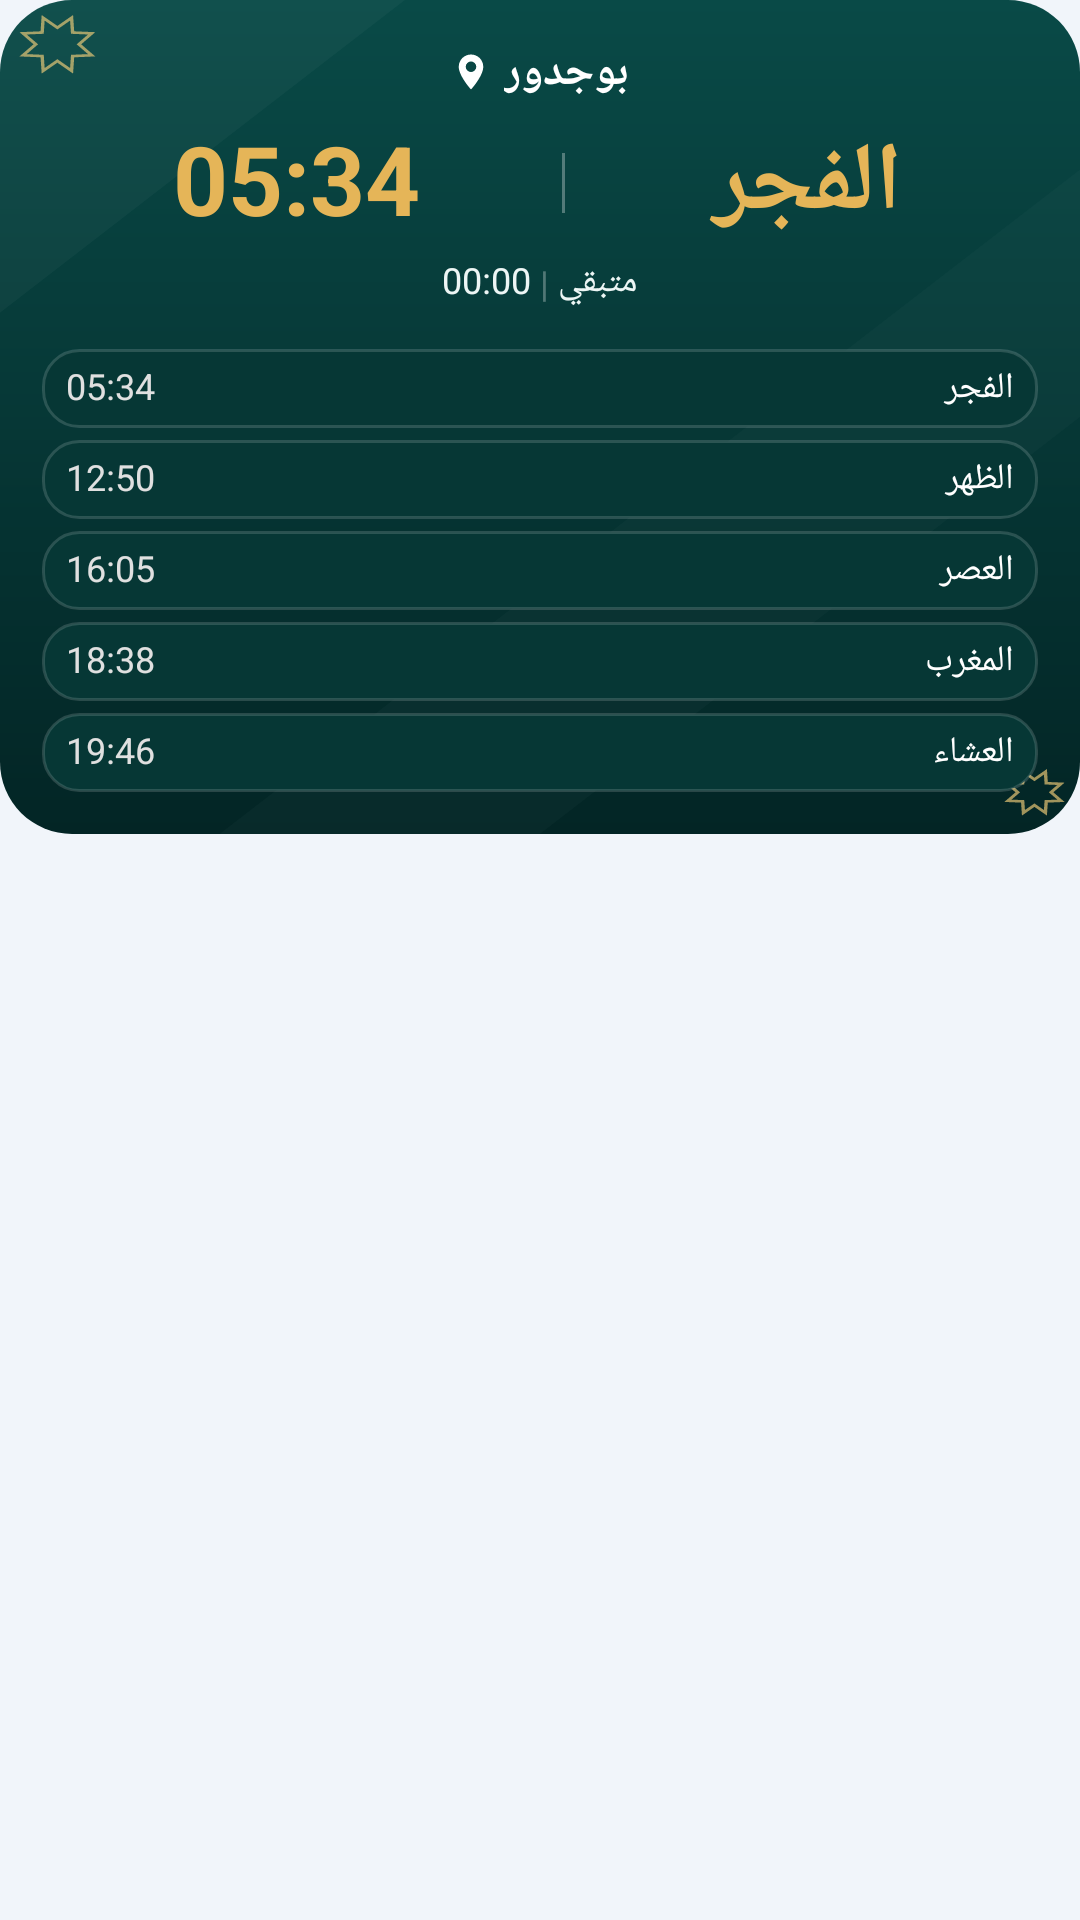

Icon bounding boxes for this 1080px x 1920px phone screenshot, format (x1, y1, x2, y2):
المدينة: (458, 54, 484, 89)
